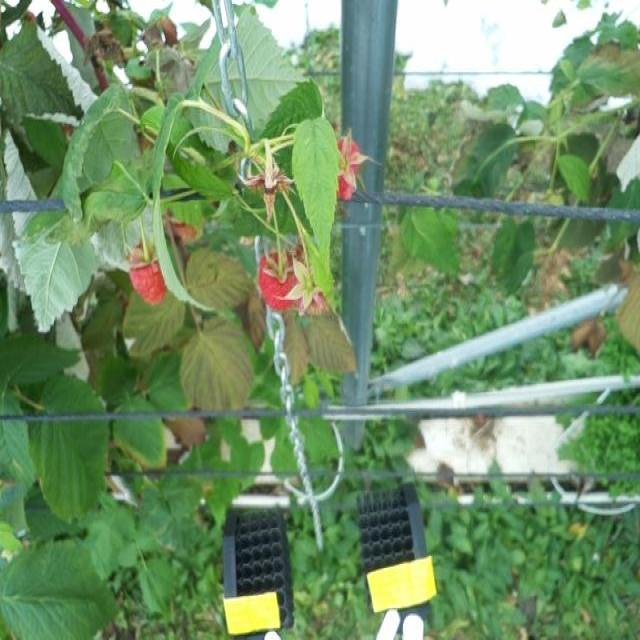Riped berries: (255, 236, 308, 310), (327, 127, 377, 202), (125, 241, 175, 302)
